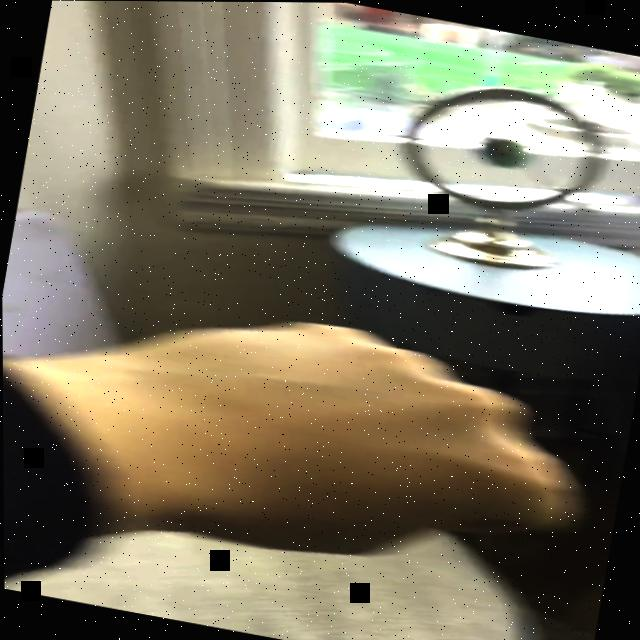Rock: (72, 281, 606, 604)
